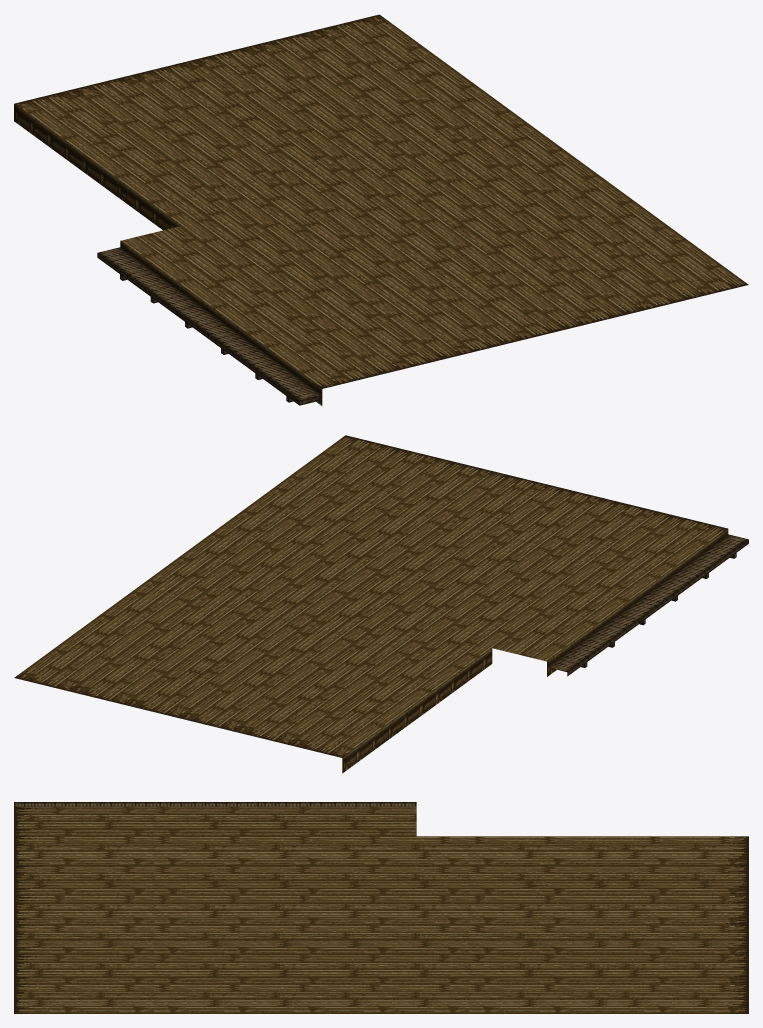
File: EnvBdgMD_Desert_B_Indoor_Orphanage_FloorWood.FBX
The picture shows the model from 3 angles, top to bottom: view 1: azimuth 30°, elevation 25°; view 2: azimuth 150°, elevation 25°; view 3: azimuth 270°, elevation 25°; orthographic projection. The views are drawn at different scales.
Parts seen in each view (by area): view 1: EnvBdgMD_Desert_B_Indoor_Orphanage_FloorWood; view 2: EnvBdgMD_Desert_B_Indoor_Orphanage_FloorWood; view 3: EnvBdgMD_Desert_B_Indoor_Orphanage_FloorWood.
Boxes of the visible parts, x1,y1,x2,y2 form: EnvBdgMD_Desert_B_Indoor_Orphanage_FloorWood: [14, 14, 748, 405]; EnvBdgMD_Desert_B_Indoor_Orphanage_FloorWood: [14, 435, 748, 773]; EnvBdgMD_Desert_B_Indoor_Orphanage_FloorWood: [14, 802, 748, 1013].
Bounding box in the file's own units: 1475 × 55 × 2100.
